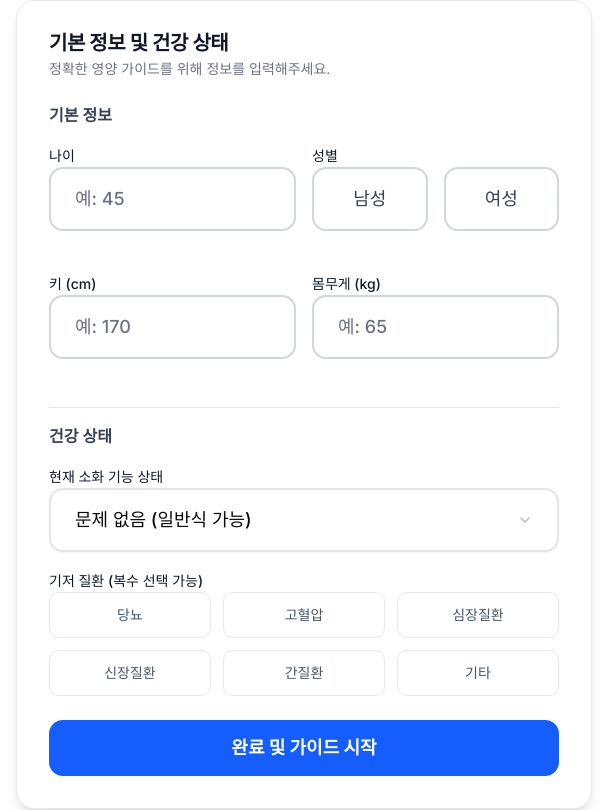
Test: OnboardingForm › shows validation error when required fields are empty
The width and height of the screenshot is (609, 810).
Click the button "완료 및 가이드 시작": (304, 748) [49, 720, 559, 776]
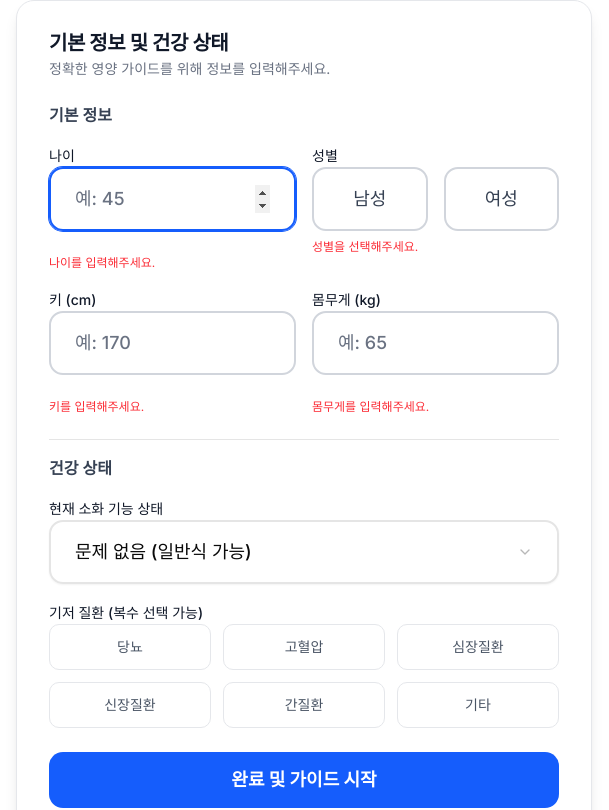
Result: the text "나이를 입력해주세요." is shown at [49, 255, 155, 270]
Result: the text "성별을 선택해주세요." is shown at [312, 239, 418, 254]
Result: the text "키를 입력해주세요." is shown at [49, 399, 144, 414]
